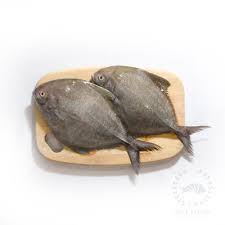Ikan Bawal: (23, 78, 154, 175), (87, 61, 211, 156)
